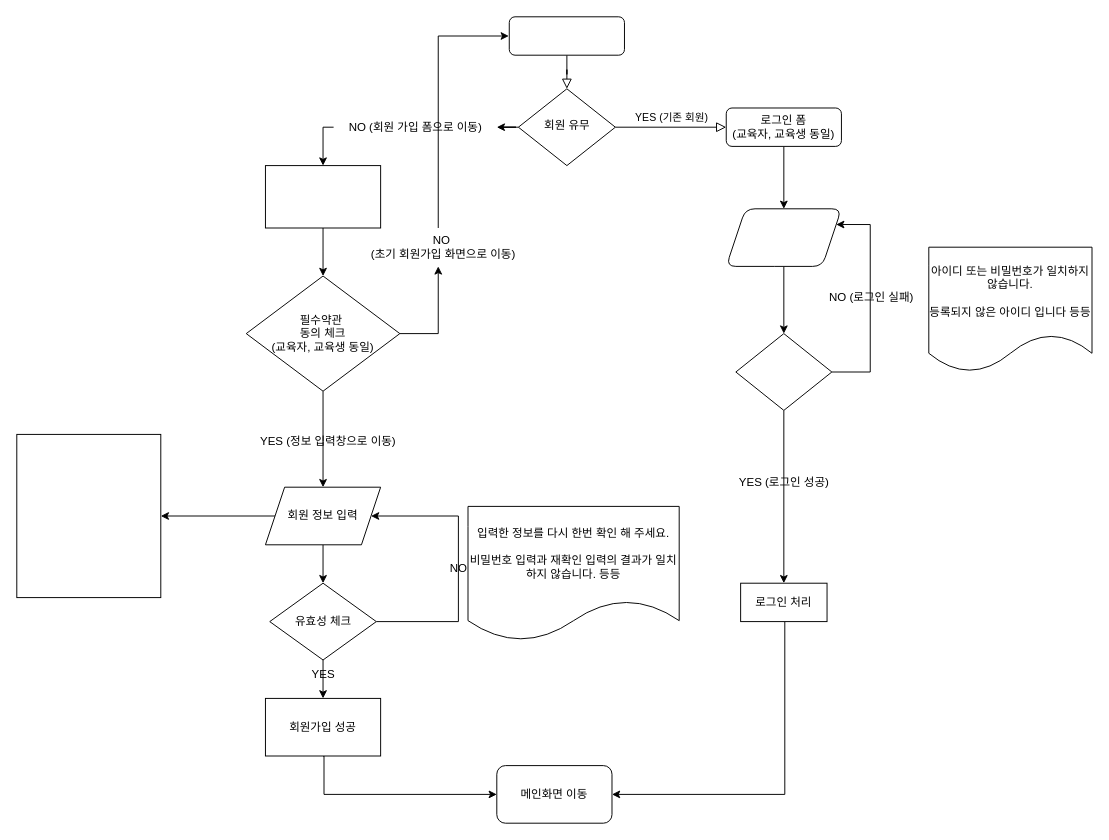
Some shapes in this 1109 by 840 pixel diagram are drawn without their labels. Each missing label, with the box of its shape:
ID/PW 입력: (725, 208, 841, 266)
ID/PW 체크: (735, 333, 832, 410)
이름, 생년월일, 전화번호 교육자, 교육생 선택 아이디 비밀번호 비밀번호 재확인: (16, 433, 161, 598)
회원가입 창 (약관 동의는 그대로): (508, 16, 624, 55)
회원가입 폼: (264, 165, 381, 228)
